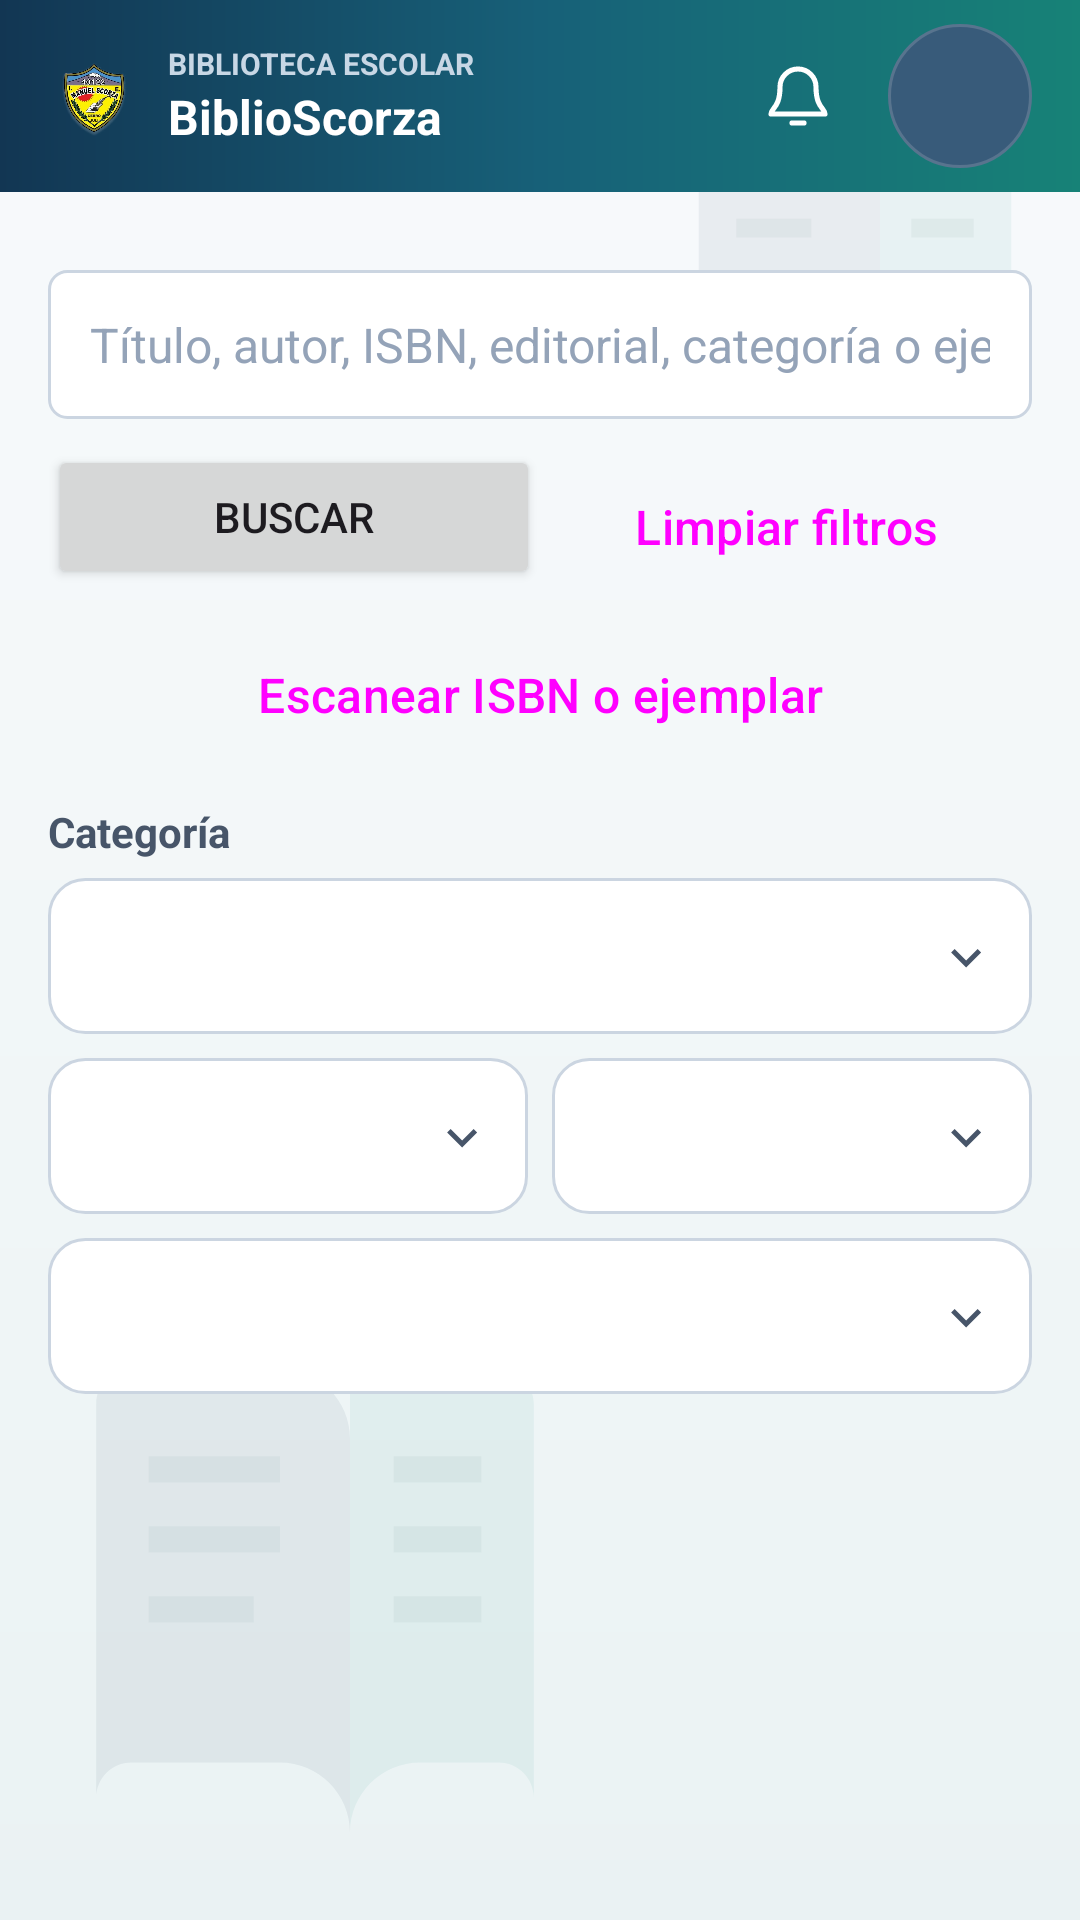

Point at icon controls on the screen. Image size 1080x1920, points as (x=x, y=y).
notifications: (x=798, y=96)
